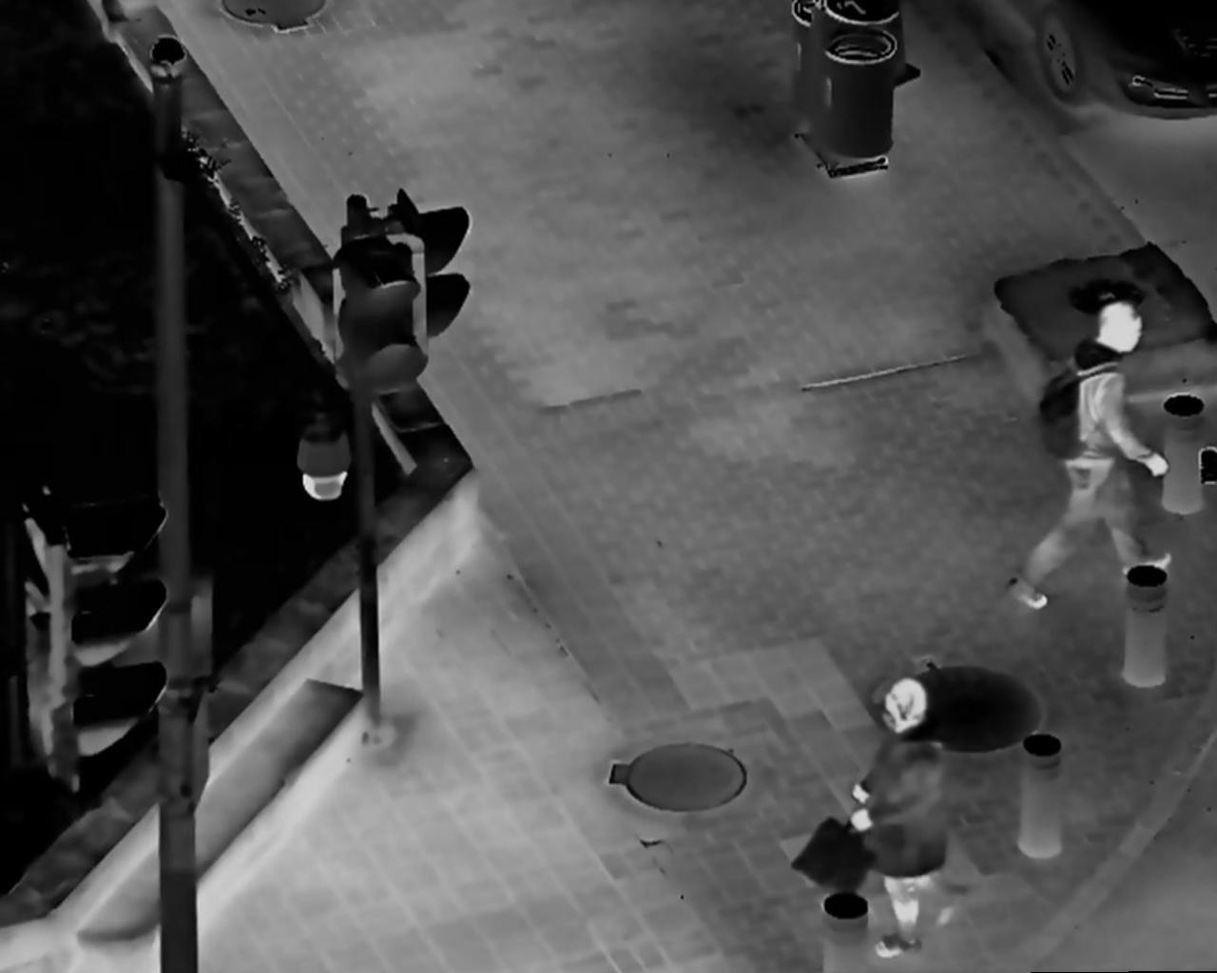person: (1007, 299, 1180, 611), (827, 670, 964, 963)
